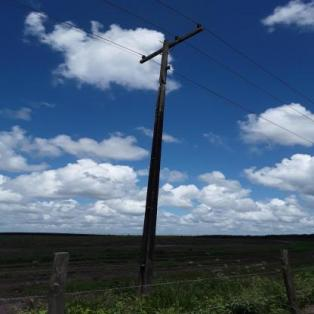Poste: (135, 36, 172, 283)
